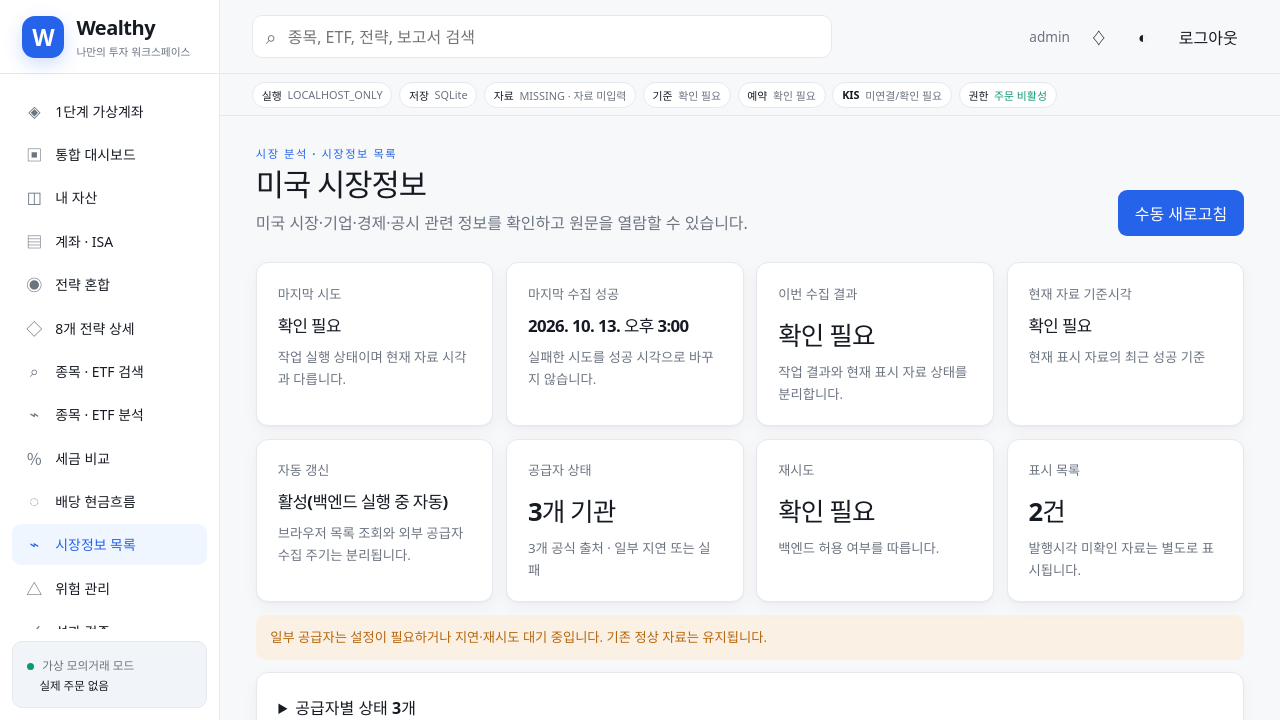
Test: 미국 시장정보 화면 › 원문·날짜 정밀도·보유 상태를 표시하고 외부 제목과 위험 링크를 실행하지 않는다
The image size is (1280, 720).
Expected: the heading "미국 시장정보" is shown, [256,163,426,205]
Expected: the text "일부 공급자는 설정이 필요하거나 지연·재시도 대기 중입니다. 기존 정상 자료는 유지됩니다." is shown, [256,615,1244,660]
Click the heading "공급자별 상태 3개" at x=356, y=708, box [295,697,416,719]
(page scrolled)
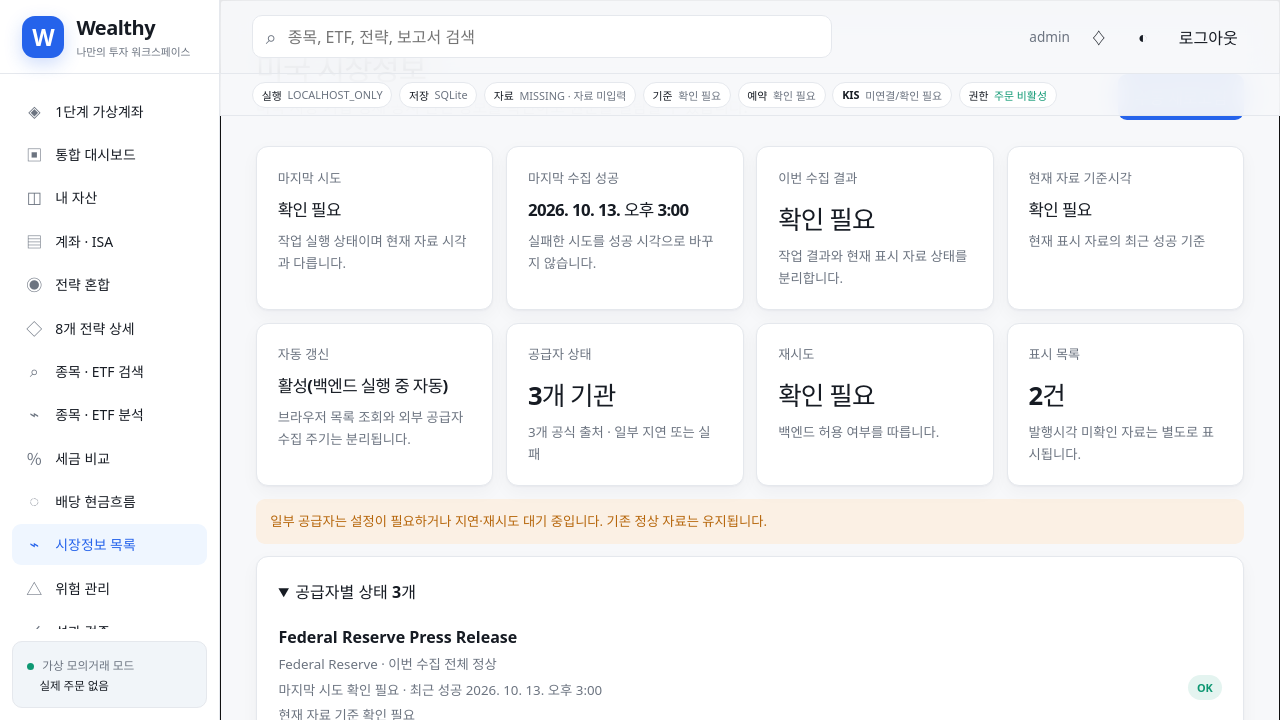
Expected: the text "활성(백엔드 실행 중 자동)" is shown, [278,375,472,398]
Result: the text "Federal Reserve Press Release" is shown at [278,626,517,648]
Result: the text "Federal Reserve · 이번 수집 전체 정상" is shown at [278,655,497,673]
